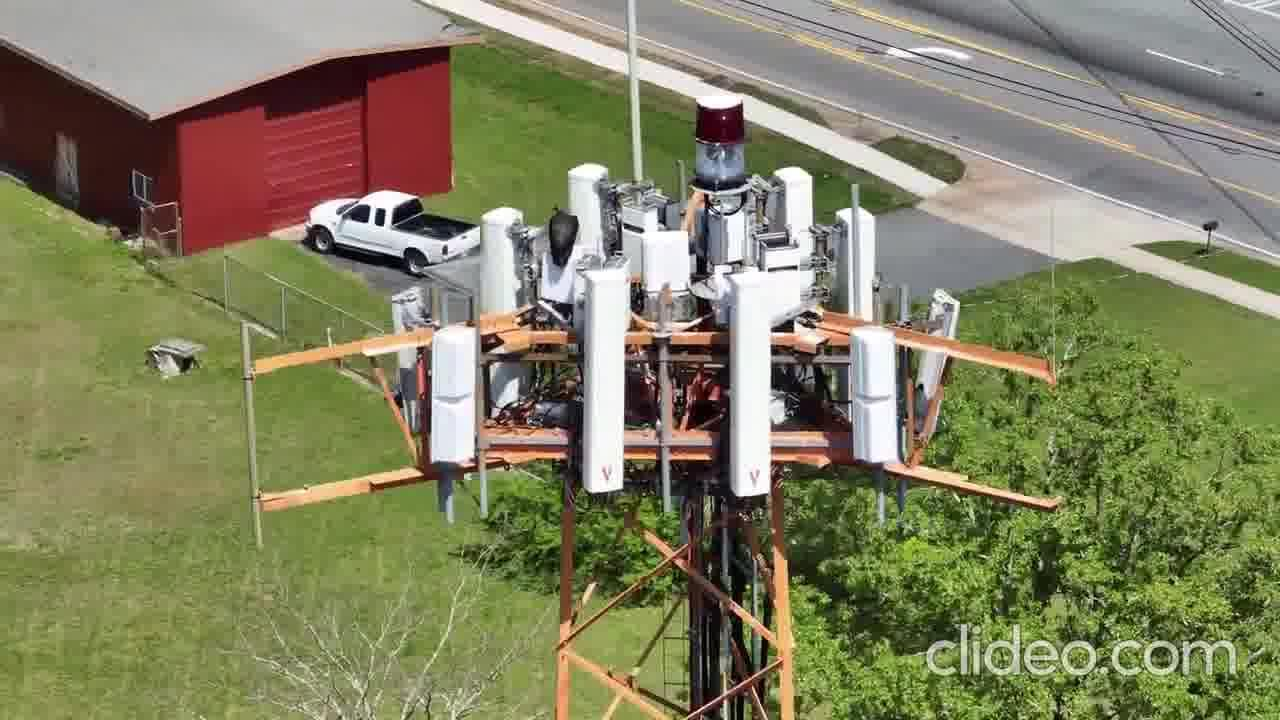antenna: (575, 263, 635, 504), (728, 267, 786, 508), (422, 324, 490, 471), (842, 323, 906, 477), (389, 281, 438, 424), (836, 206, 895, 324), (478, 200, 535, 321), (564, 150, 615, 249), (637, 228, 705, 301), (770, 162, 818, 240)
